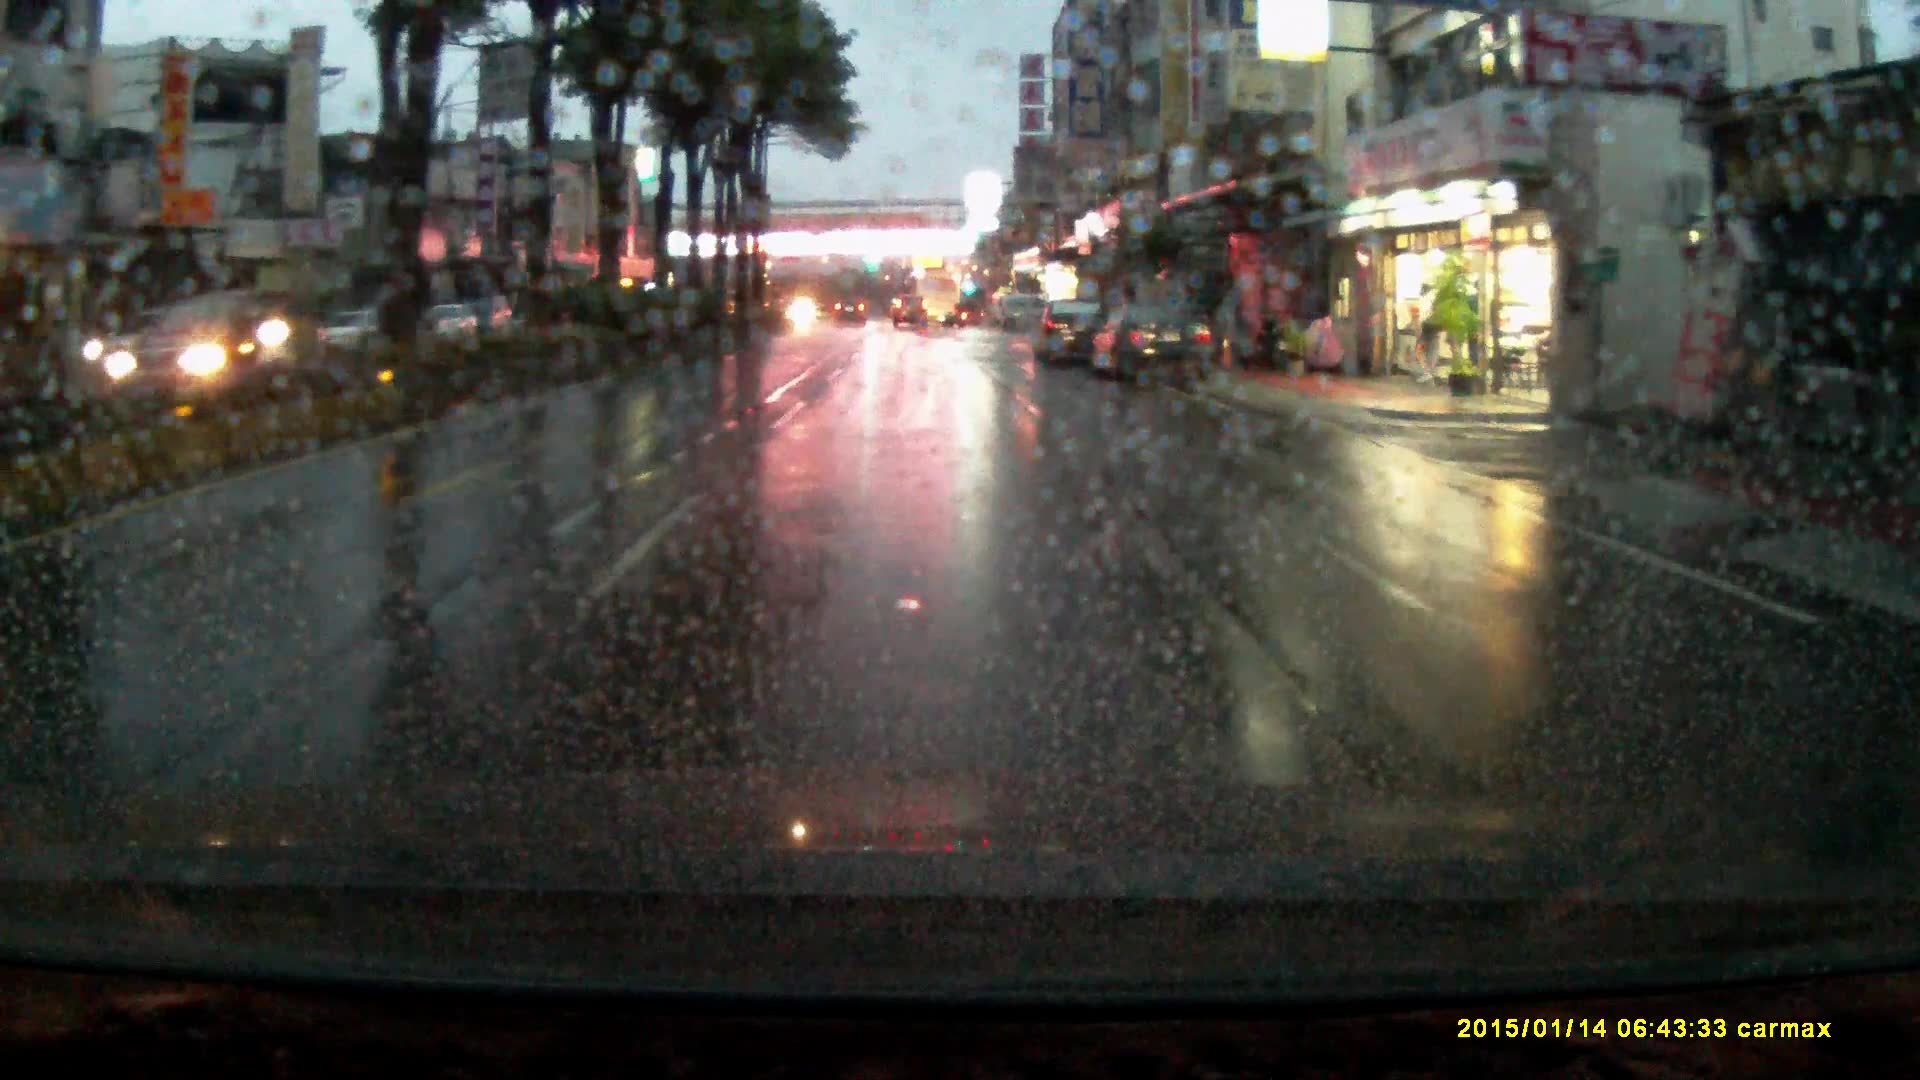rider: (246, 260, 337, 418)
vehicle: (92, 289, 280, 403), (1088, 299, 1217, 390), (1027, 296, 1109, 370), (81, 308, 167, 375), (318, 308, 381, 356), (906, 278, 960, 330), (997, 296, 1050, 336), (432, 303, 478, 336), (893, 293, 929, 330), (835, 296, 869, 326)
